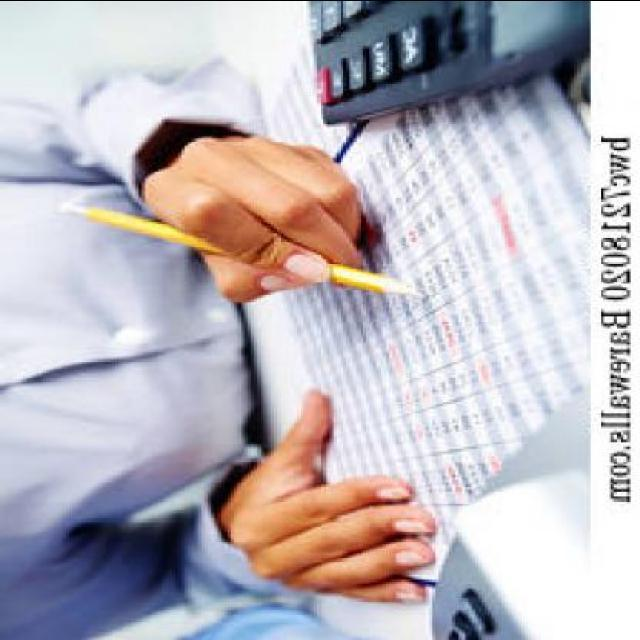Pencil: (356, 270, 428, 306)
